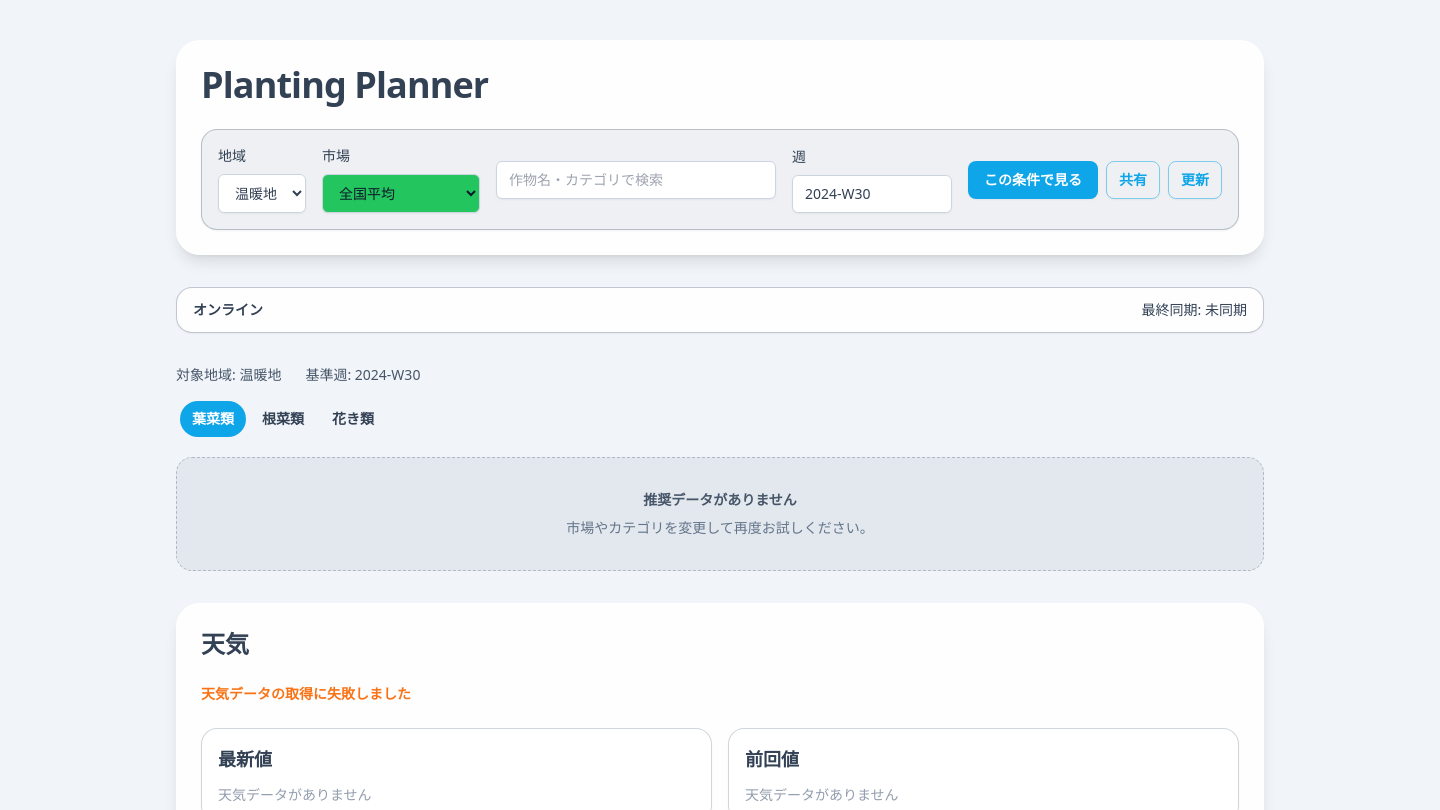
Test: Region switching interactions › 地域切替時に遅延レスポンスが上書きされない
Select "寒冷地" in the dropdown labelled "地域" at point(262, 194), box [218, 174, 306, 213]
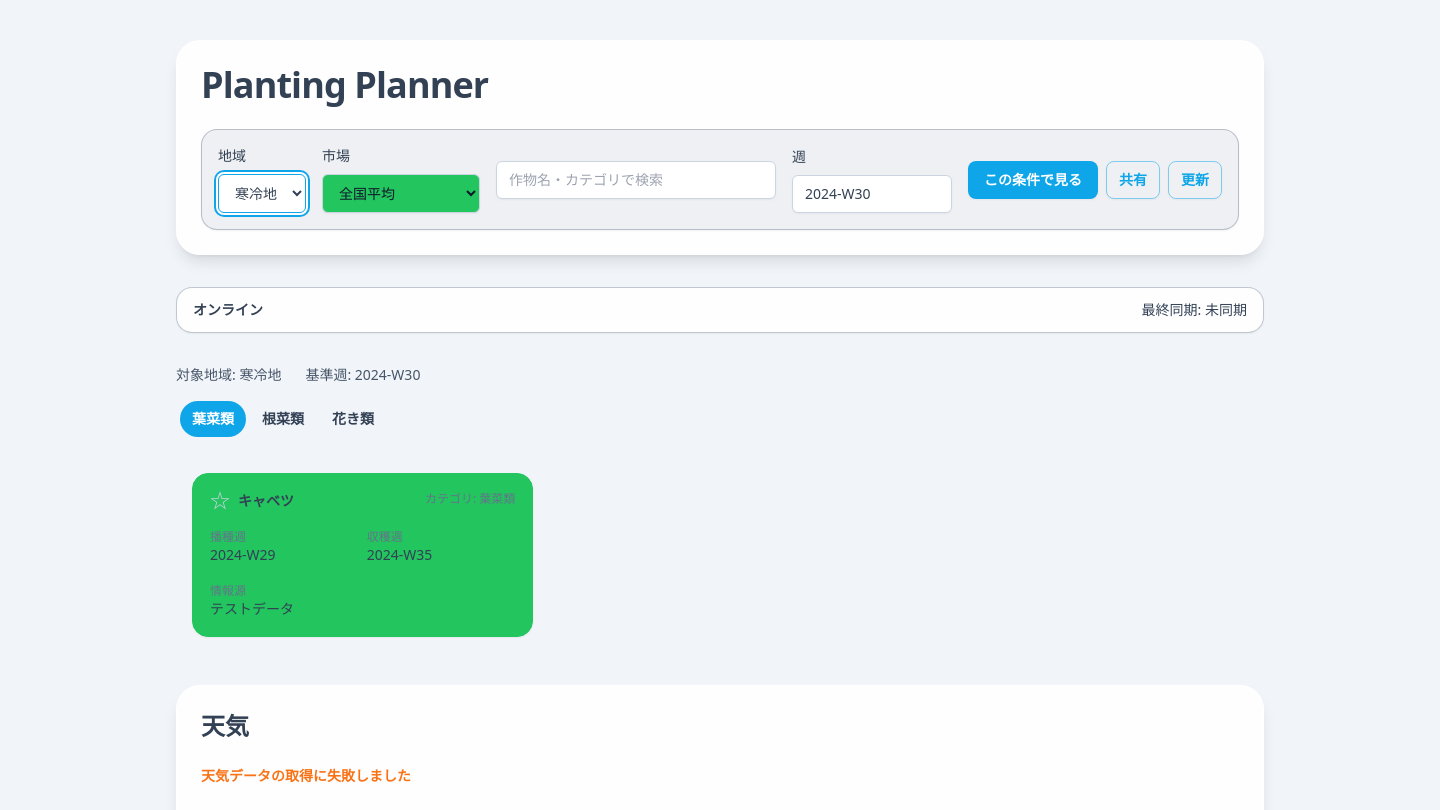
Now the text "キャベツ" is shown, box [238, 491, 294, 511]
